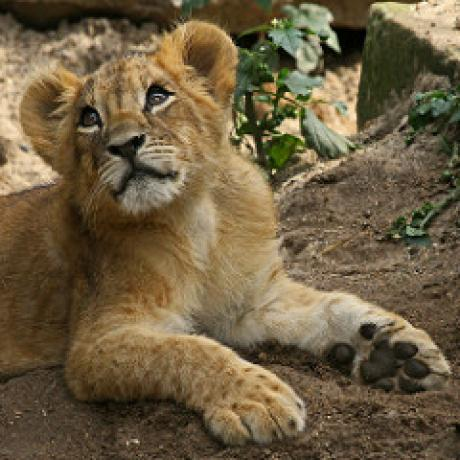Lion: (0, 21, 456, 447)
